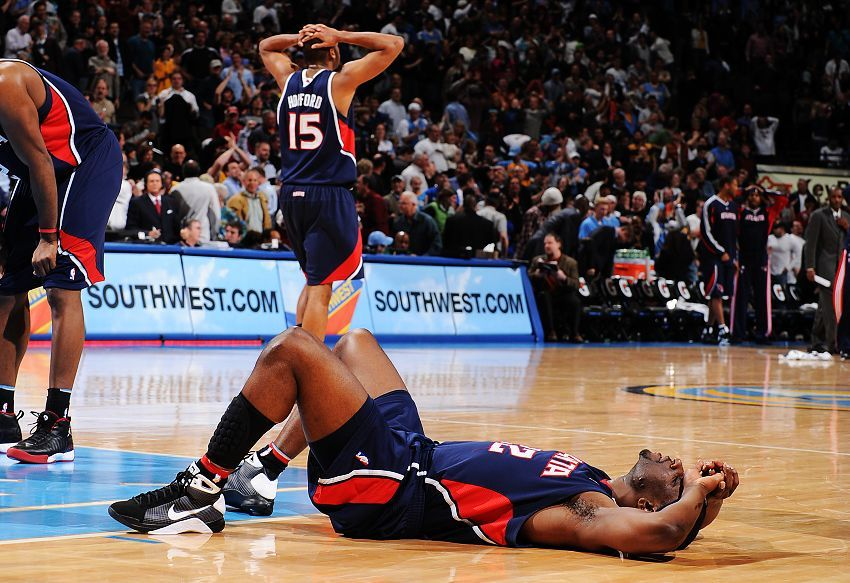10+: (1, 1, 850, 565)
down: (102, 317, 777, 566)
